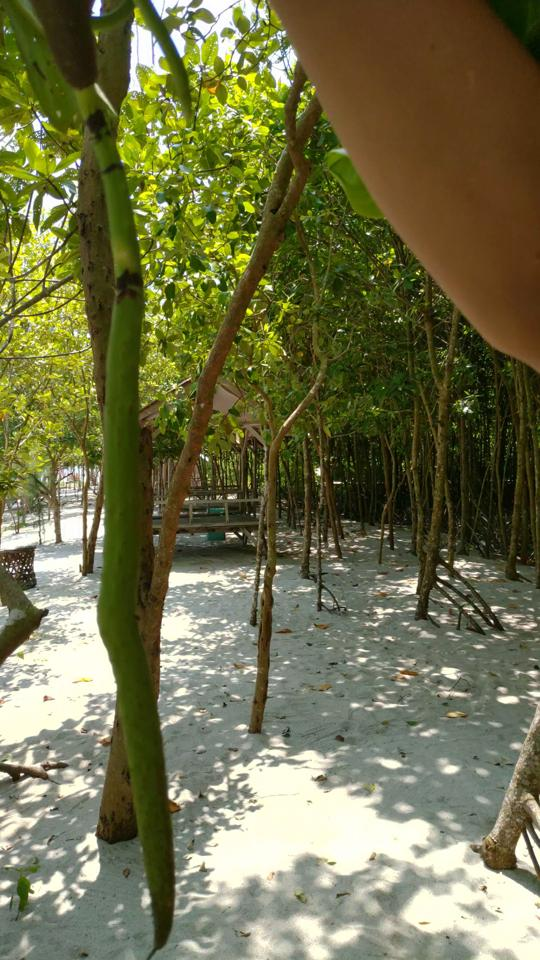setengah matang: (24, 1, 206, 958)
